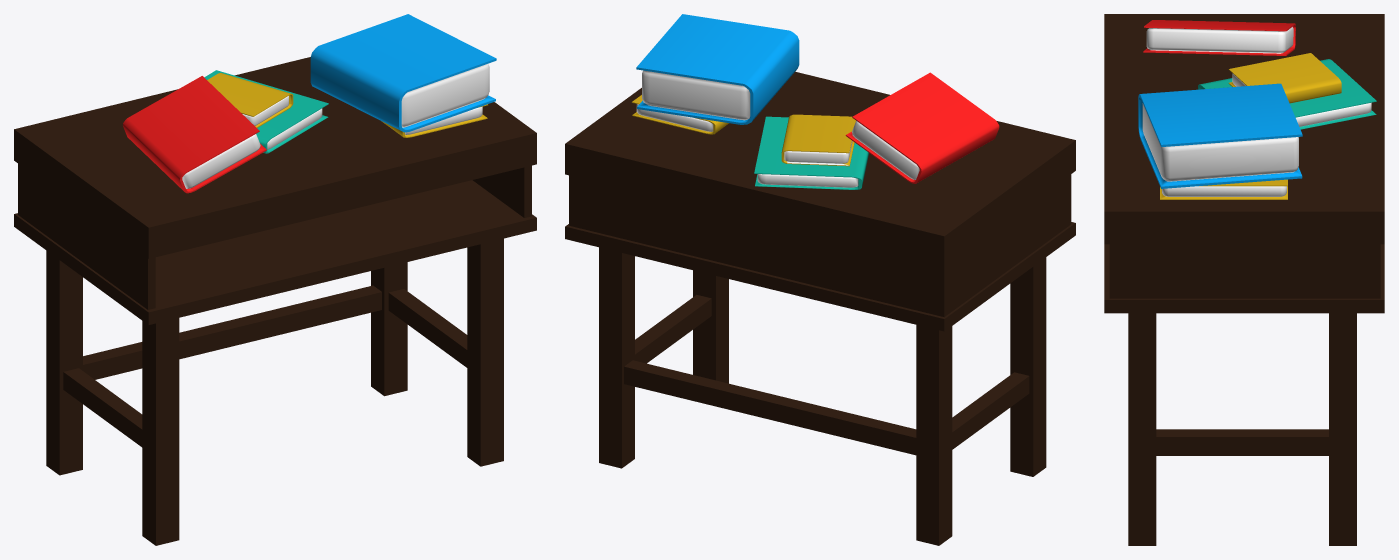
3 renders of one model, left to right at view 1: azimuth 30°, elevation 25°; view 2: azimuth 150°, elevation 25°; view 3: azimuth 270°, elevation 25°, orthographic. The views are drawn at different scales.
Visible parts, largest first — view 1: Box001, Box003, ChamferBox004, ChamferBox003, C-Ext001, Box002, Box006, Box004, Box007, Box005, Box008, Box009 (+3 smaller); view 2: Box001, C-Ext001, ChamferBox004, ChamferBox003, Box004, Box007, Box003, Box005, Box002, ChamferBox005, ChamferBox009, Box006 (+3 smaller); view 3: Box001, C-Ext001, ChamferBox004, Box006, Box005, Box003, ChamferBox003, Box009, ChamferBox009, ChamferBox005, ChamferBox008.
Part boxes in pixels (x1=…): Box001: x1=14, y1=57, x2=536, y2=258; Box003: x1=14, y1=180, x2=536, y2=325; ChamferBox004: x1=310, y1=14, x2=496, y2=132; ChamferBox003: x1=123, y1=76, x2=266, y2=193; C-Ext001: x1=18, y1=164, x2=531, y2=309; Box002: x1=142, y1=318, x2=179, y2=545; Box006: x1=467, y1=238, x2=503, y2=466; Box004: x1=46, y1=250, x2=82, y2=475; Box007: x1=83, y1=285, x2=381, y2=379; Box005: x1=371, y1=262, x2=407, y2=396; Box008: x1=63, y1=368, x2=142, y2=447; Box009: x1=388, y1=289, x2=467, y2=367; Box001: x1=565, y1=71, x2=1075, y2=266; C-Ext001: x1=569, y1=174, x2=1071, y2=317; ChamferBox004: x1=636, y1=14, x2=799, y2=124; ChamferBox003: x1=845, y1=72, x2=999, y2=183; Box004: x1=916, y1=325, x2=952, y2=545; Box007: x1=624, y1=360, x2=916, y2=455; Box003: x1=565, y1=222, x2=1075, y2=331; Box005: x1=599, y1=247, x2=634, y2=468; Box002: x1=1010, y1=257, x2=1046, y2=476; ChamferBox005: x1=754, y1=116, x2=868, y2=189; ChamferBox009: x1=781, y1=114, x2=855, y2=166; Box006: x1=693, y1=270, x2=728, y2=383; Box001: x1=1104, y1=14, x2=1384, y2=244; C-Ext001: x1=1109, y1=244, x2=1380, y2=298; ChamferBox004: x1=1138, y1=83, x2=1302, y2=188; Box006: x1=1128, y1=313, x2=1156, y2=545; Box005: x1=1329, y1=313, x2=1356, y2=545; Box003: x1=1104, y1=244, x2=1384, y2=313; ChamferBox003: x1=1143, y1=20, x2=1295, y2=55; Box009: x1=1156, y1=429, x2=1328, y2=455; ChamferBox009: x1=1228, y1=53, x2=1341, y2=103; ChamferBox005: x1=1198, y1=59, x2=1376, y2=129; ChamferBox008: x1=1160, y1=179, x2=1287, y2=199.
Size of the model in its own units: 50 by 47.84 by 30.
Materials: 2 (1 with a texture image).
